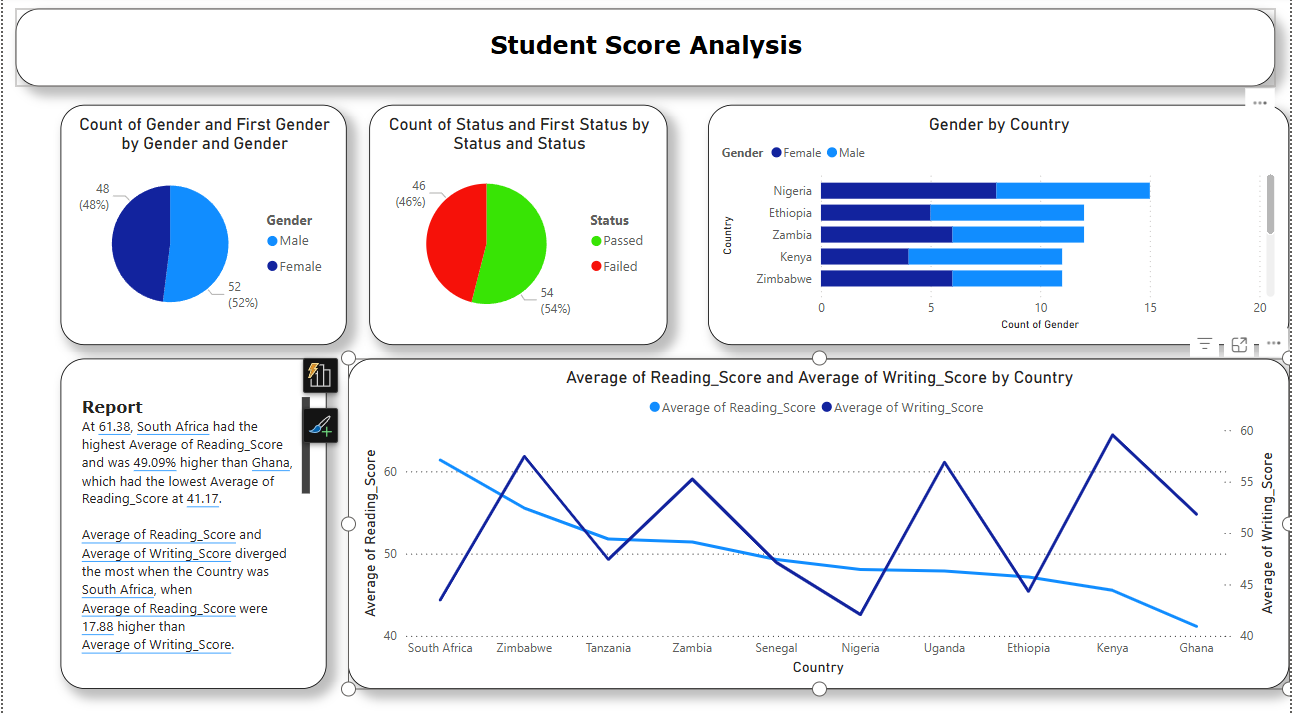

Layout of this report page (visuals, bound fields, positions):
{"tool":"powerbi","page":{"name":"Page 1","canvas":[1280,720],"ordinal":0},"visuals":[{"type":"pieChart","fields":{"Category":["updated_student_scores.Gender"],"Series":["updated_student_scores.Gender"],"Y":["CountNonNull(updated_student_scores.Gender)"]},"box":[57.8,107.7,285.1,239.3],"z":0},{"type":"pieChart","fields":{"Category":["updated_student_scores.Status"],"Y":["CountNonNull(updated_student_scores.Status)"],"Series":["updated_student_scores.Status"]},"box":[364.9,107.7,297.1,239.3],"z":1000},{"type":"lineChart","fields":{"Y":["Avg(updated_student_scores.Reading_Score)"],"Category":["updated_student_scores.Country"],"Y2":["Avg(updated_student_scores.Writing_Score)"]},"box":[343.3,360.7,923,329.6],"z":2000},{"type":"barChart","title":"Gender by Country","fields":{"Category":["updated_student_scores.Country"],"Y":["CountNonNull(updated_student_scores.Gender)"],"Series":["updated_student_scores.Gender"]},"box":[687.9,108.2,578.4,238.8],"z":3000},{"type":"textbox","box":[57.8,360.9,265.2,329],"z":4000},{"type":"textbox","box":[73.8,394.8,237.3,277.1],"z":5000},{"type":"shape","title":"Student Score Analysis","box":[13,13,1253.8,77.9],"z":6000}]}

Visuals, with their boxes in screenshot pixels (x1, y1, x2, y2), scaled from the page's 1280x720 canvas onto the 1292x713 screenshot:
pieChart - updated_student_scores.Gender x updated_student_scores.Gender: <region>58, 107, 346, 344</region>
pieChart - updated_student_scores.Status x CountNonNull(updated_student_scores.Status): <region>368, 107, 668, 344</region>
lineChart - Avg(updated_student_scores.Reading_Score) x updated_student_scores.Country: <region>347, 357, 1278, 684</region>
"Gender by Country" barChart: <region>694, 107, 1278, 344</region>
textbox: <region>58, 357, 326, 683</region>
textbox: <region>74, 391, 314, 665</region>
"Student Score Analysis" shape: <region>13, 13, 1279, 90</region>
